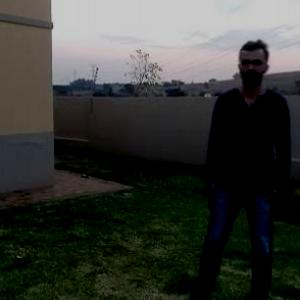follow: (197, 36, 274, 299)
